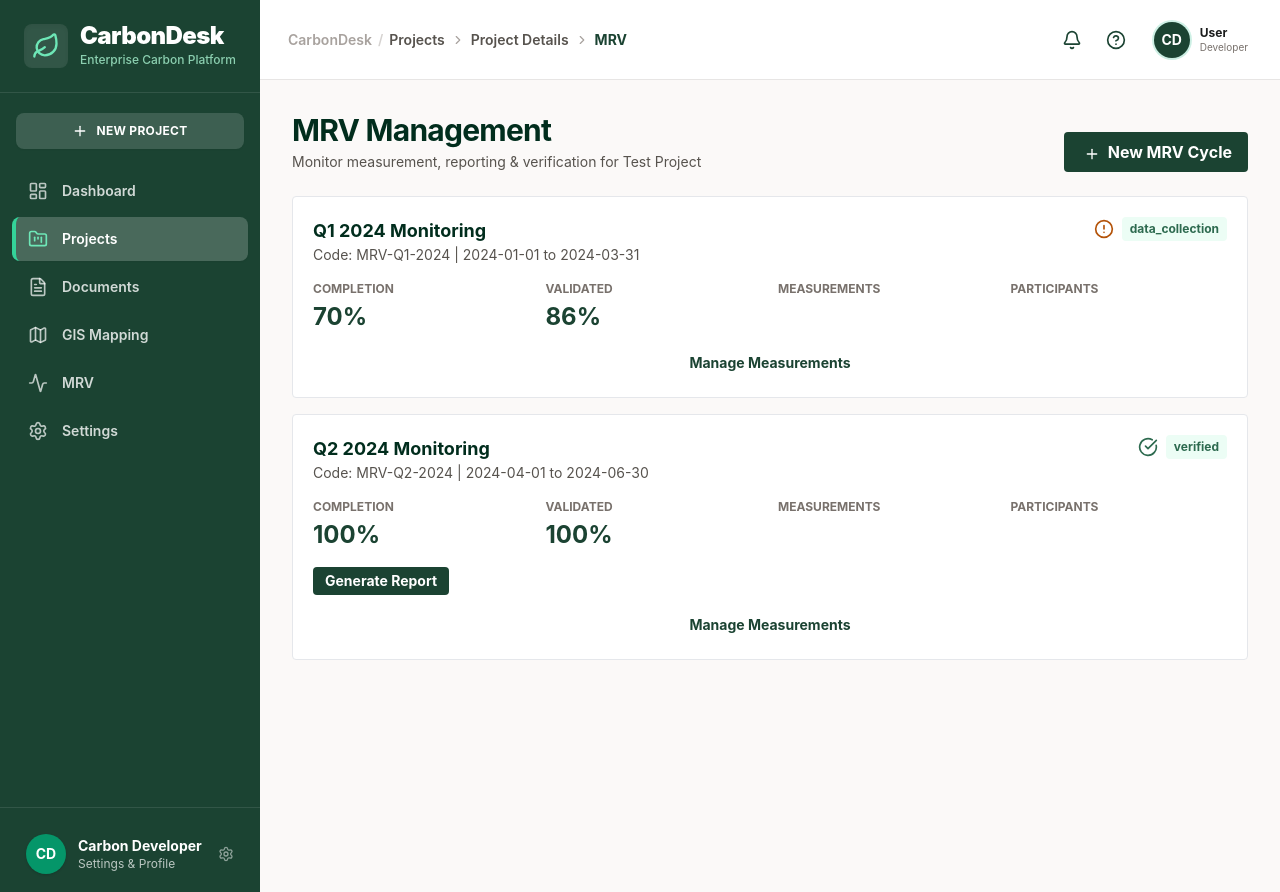
Test case: MRVPage - Create Cycle Form › closes form when clicking Cancel
Click the button "New MRV Cycle".
click(1156, 152)  # box 1064,132 -> 1248,172
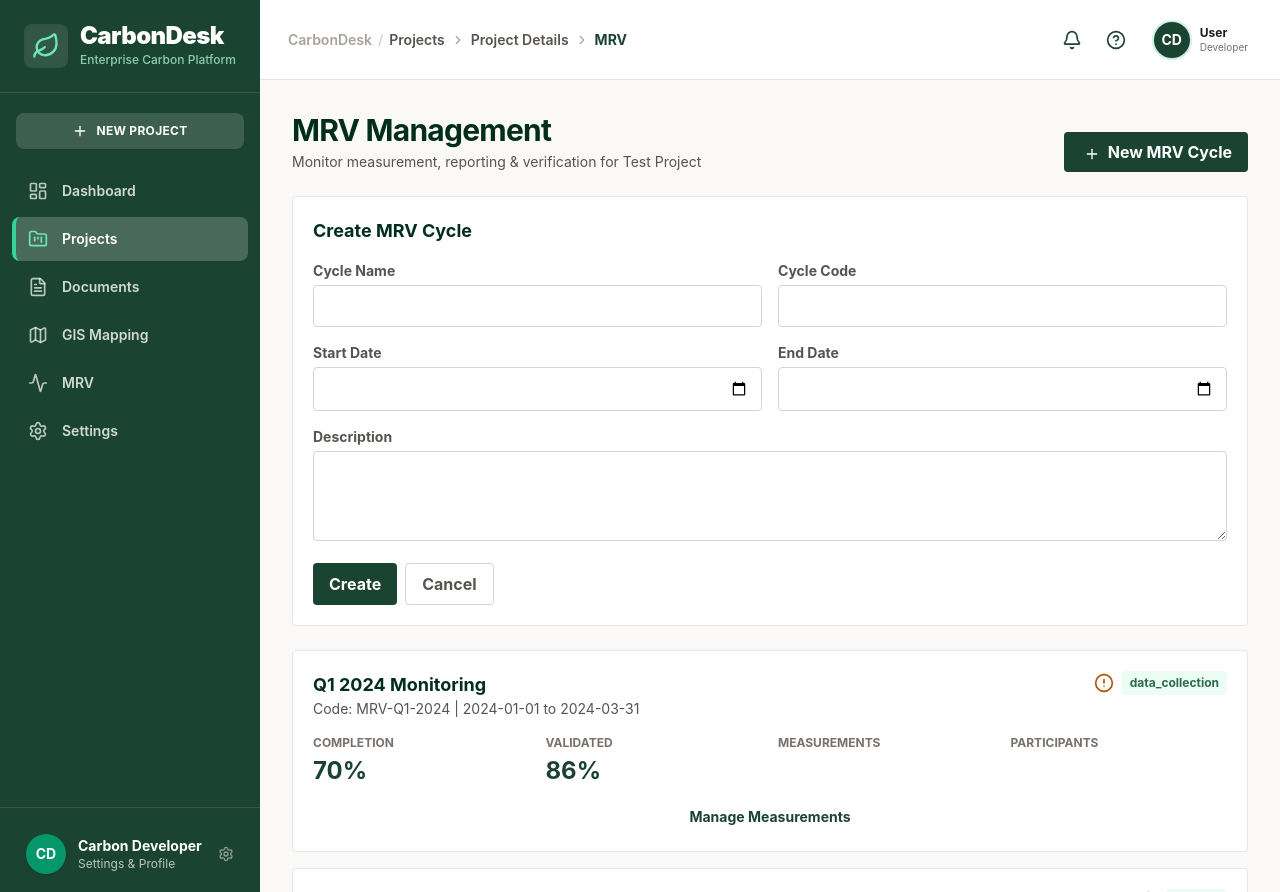
Expected: the heading "Create MRV Cycle" is shown, 313,220 -> 472,241
Click the button "Cancel".
click(449, 584)  # box 405,563 -> 494,605
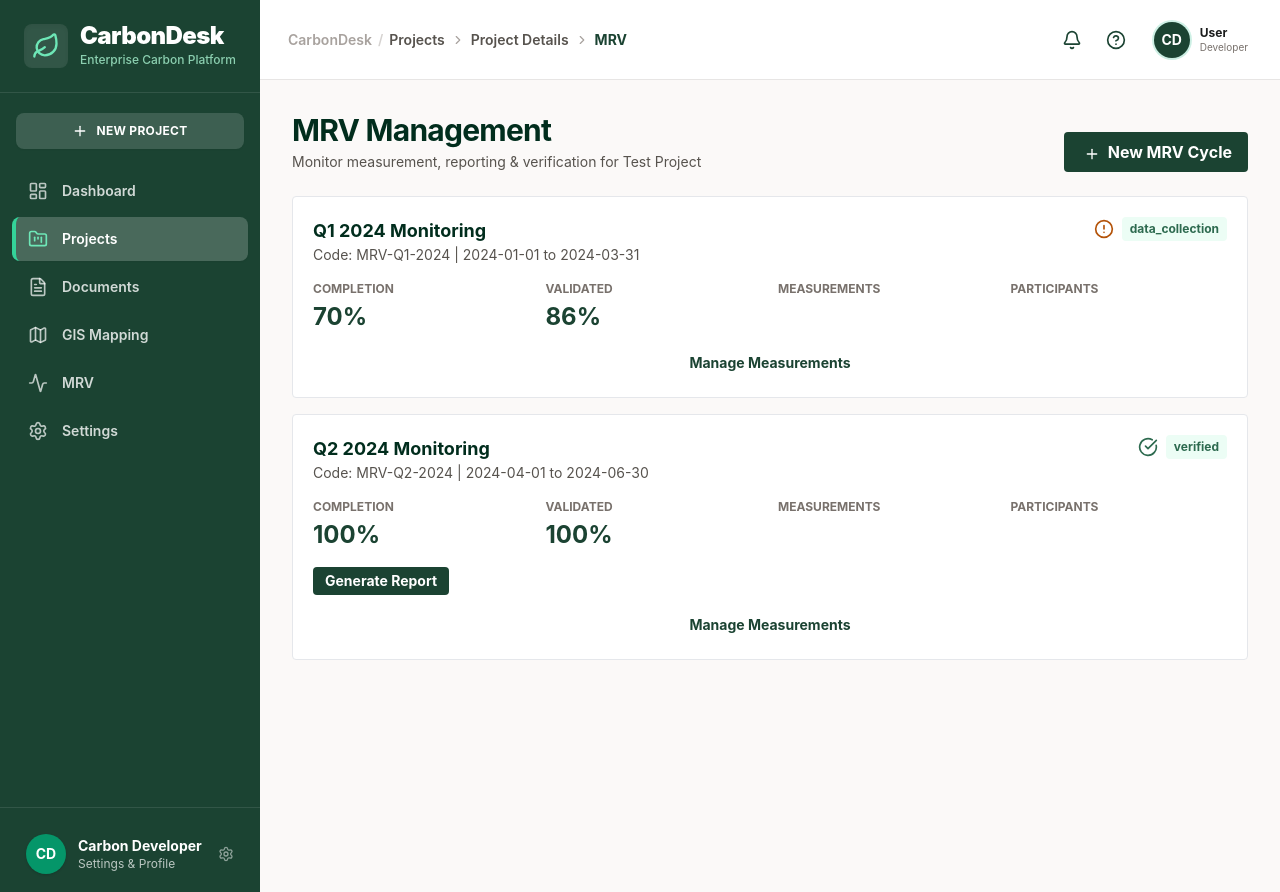
Expected: the heading "Create MRV Cycle" is gone
